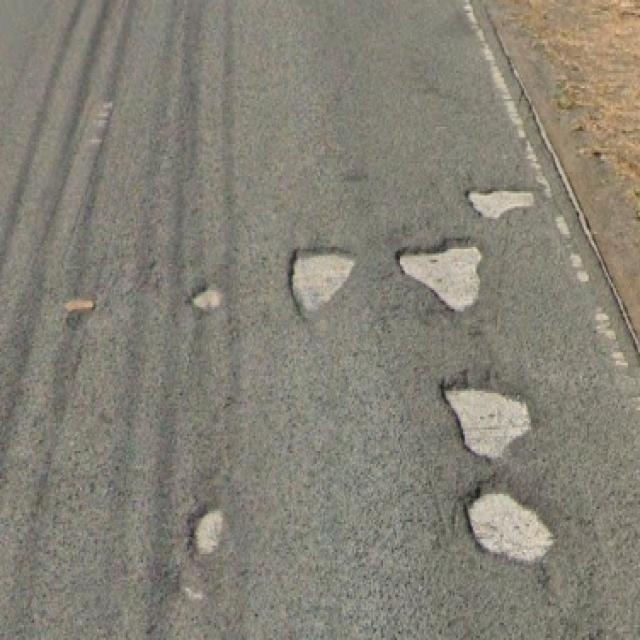pothole: (416, 365, 588, 593), (390, 224, 499, 324), (280, 227, 364, 326), (442, 166, 546, 224), (190, 492, 237, 574), (186, 275, 242, 329)
